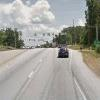Car: (54, 43, 70, 60)
